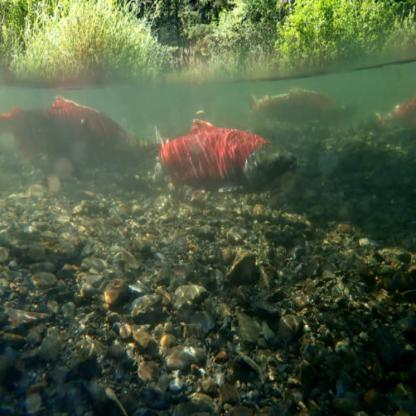sockeye: (151, 104, 295, 198), (0, 88, 135, 173)
